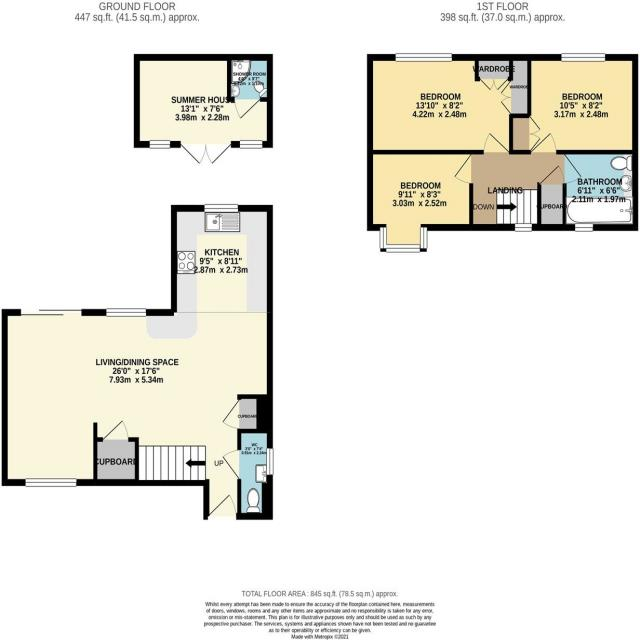DOOR: (208, 493, 237, 520), (220, 398, 242, 431), (101, 418, 130, 443), (221, 447, 242, 481), (233, 96, 261, 121)
ROOM: (133, 53, 273, 165)
WINDOW: (394, 52, 453, 63), (24, 477, 77, 487), (105, 308, 147, 318), (204, 203, 239, 214), (265, 447, 274, 476), (149, 139, 171, 150), (239, 140, 263, 150)
